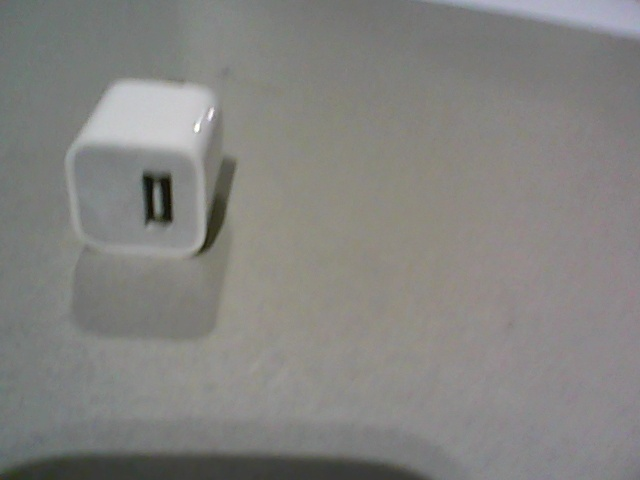charger: (65, 81, 223, 258)
